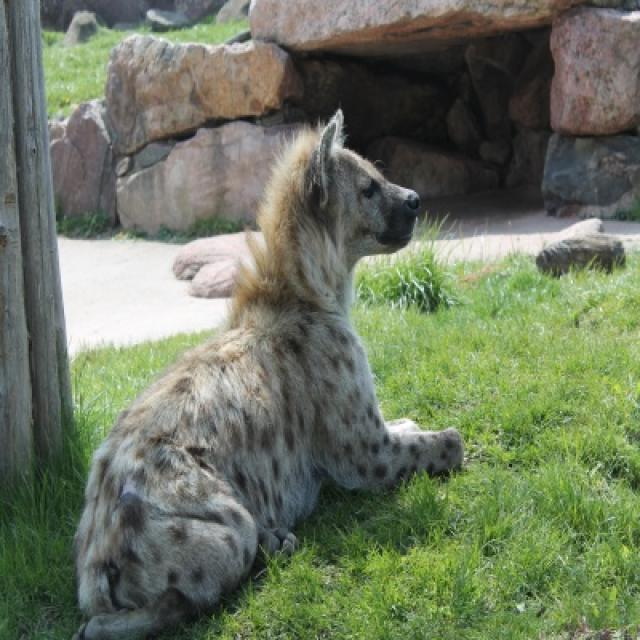hyena: (72, 110, 466, 638)
